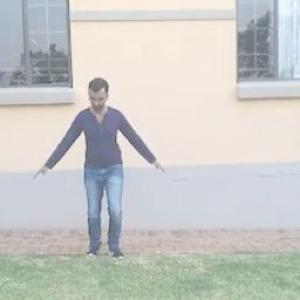land: (30, 73, 172, 261)
